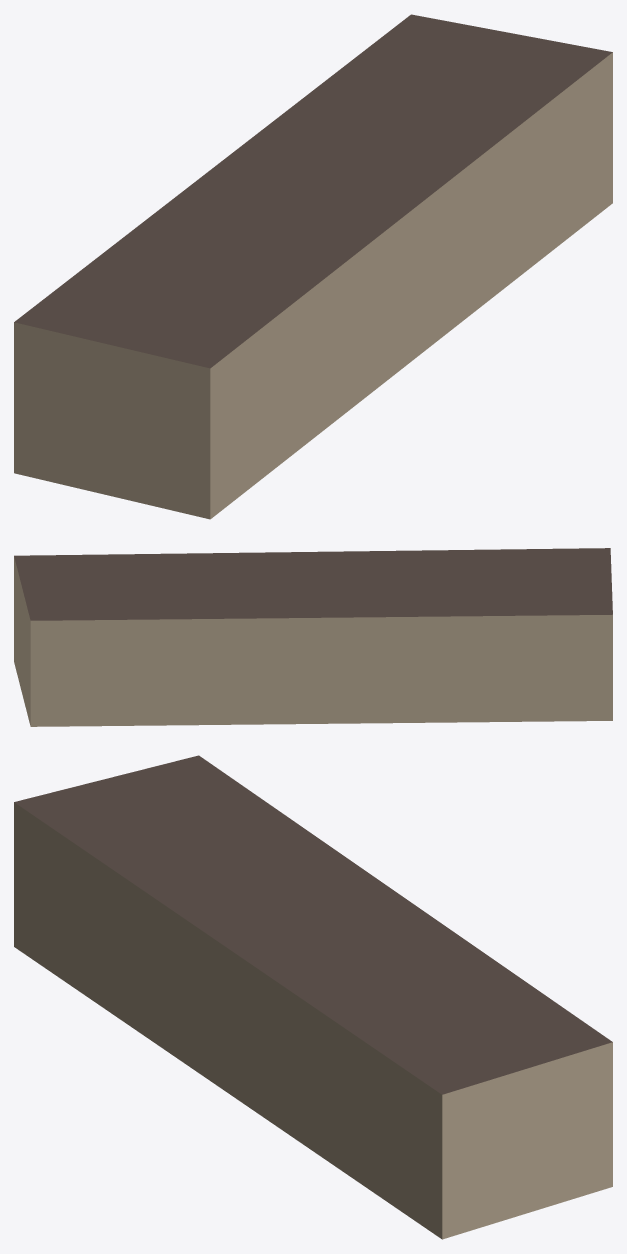
3 views of the same model, one above another, from view 1: azimuth 30°, elevation 25°; view 2: azimuth 150°, elevation 25°; view 3: azimuth 270°, elevation 25° (orthographic). The views are drawn at different scales.
Parts seen in each view (by area): view 1: HP-w1197065284; view 2: HP-w1197065284; view 3: HP-w1197065284.
Boxes of the visible parts, x1,y1,x2,y2 form: HP-w1197065284: (14,14,612,519); HP-w1197065284: (14,548,612,726); HP-w1197065284: (14,755,612,1239).
Size of the model in its own units: 45.27 by 9 by 33.76.
